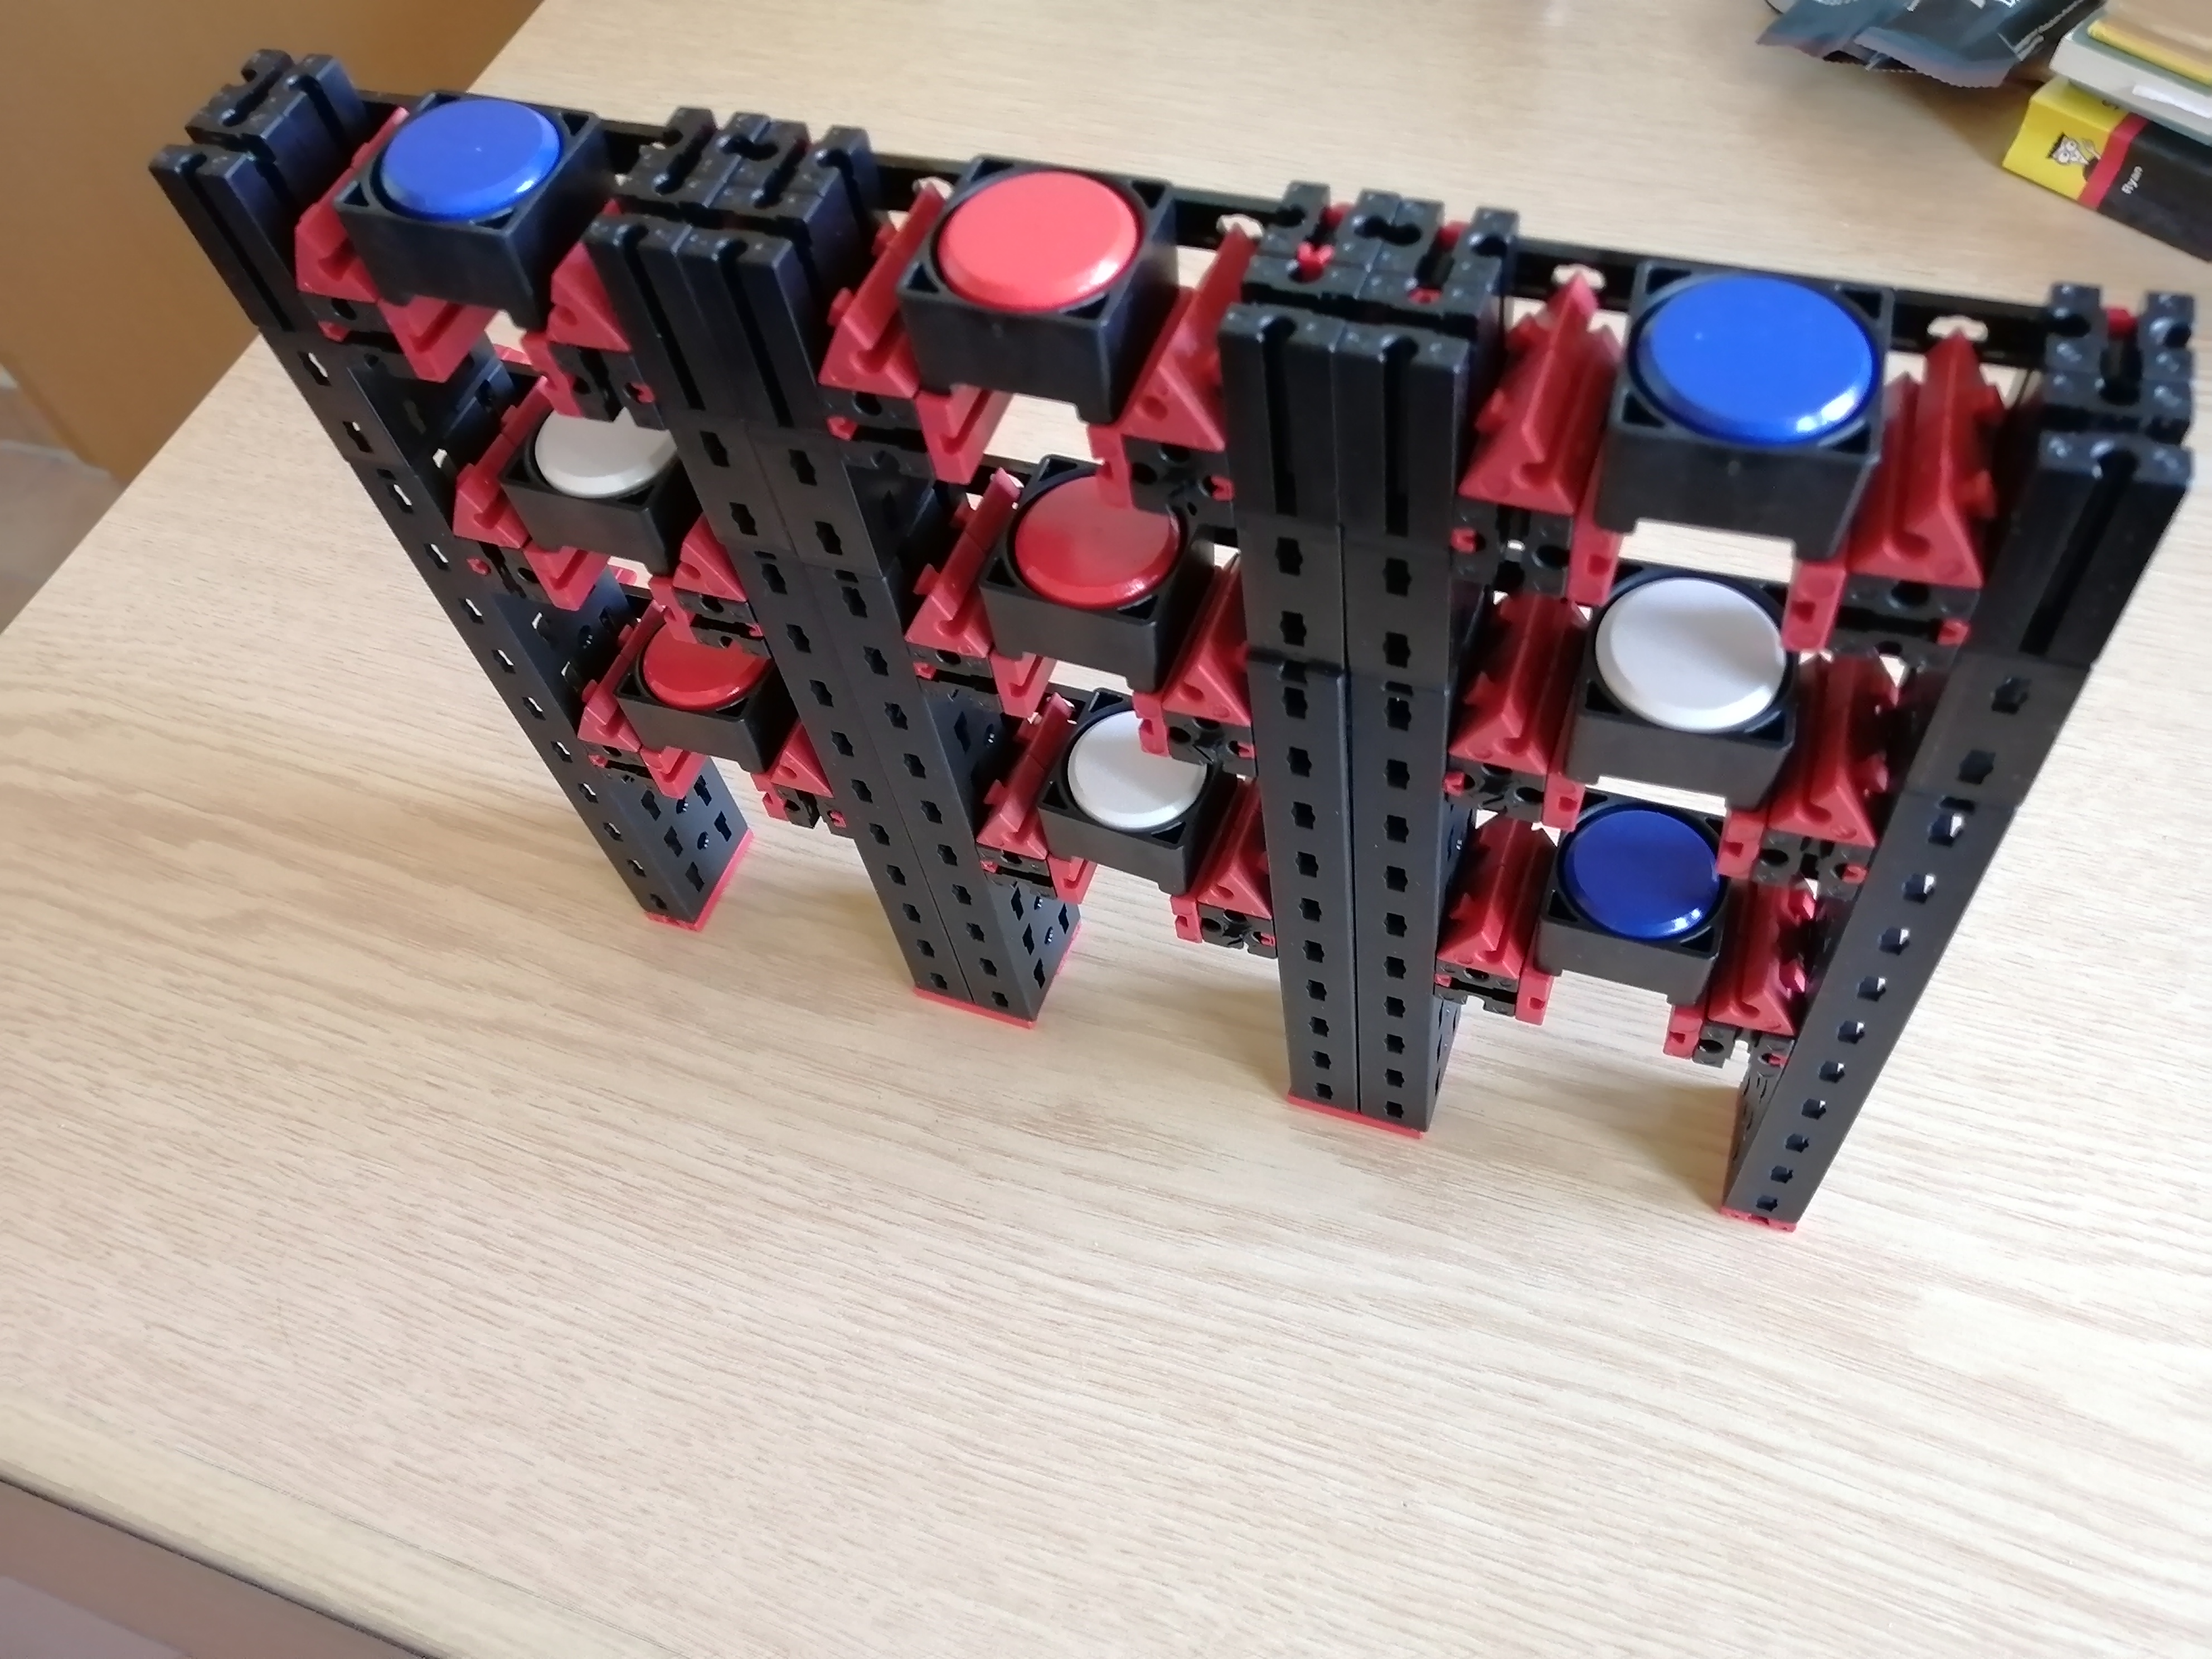Behaelter: (1602, 270, 1883, 559), (906, 160, 1170, 422), (1578, 580, 1785, 819), (995, 450, 1188, 683), (359, 96, 554, 317), (1543, 796, 1717, 979), (503, 406, 681, 566), (1057, 699, 1202, 890), (618, 631, 789, 770)
WerkStueck: (1634, 275, 1869, 446), (1599, 582, 1784, 734), (946, 173, 1134, 301), (1019, 469, 1179, 608), (380, 99, 554, 216), (1571, 814, 1714, 951), (1068, 716, 1204, 823), (531, 406, 674, 493), (643, 629, 756, 713)
